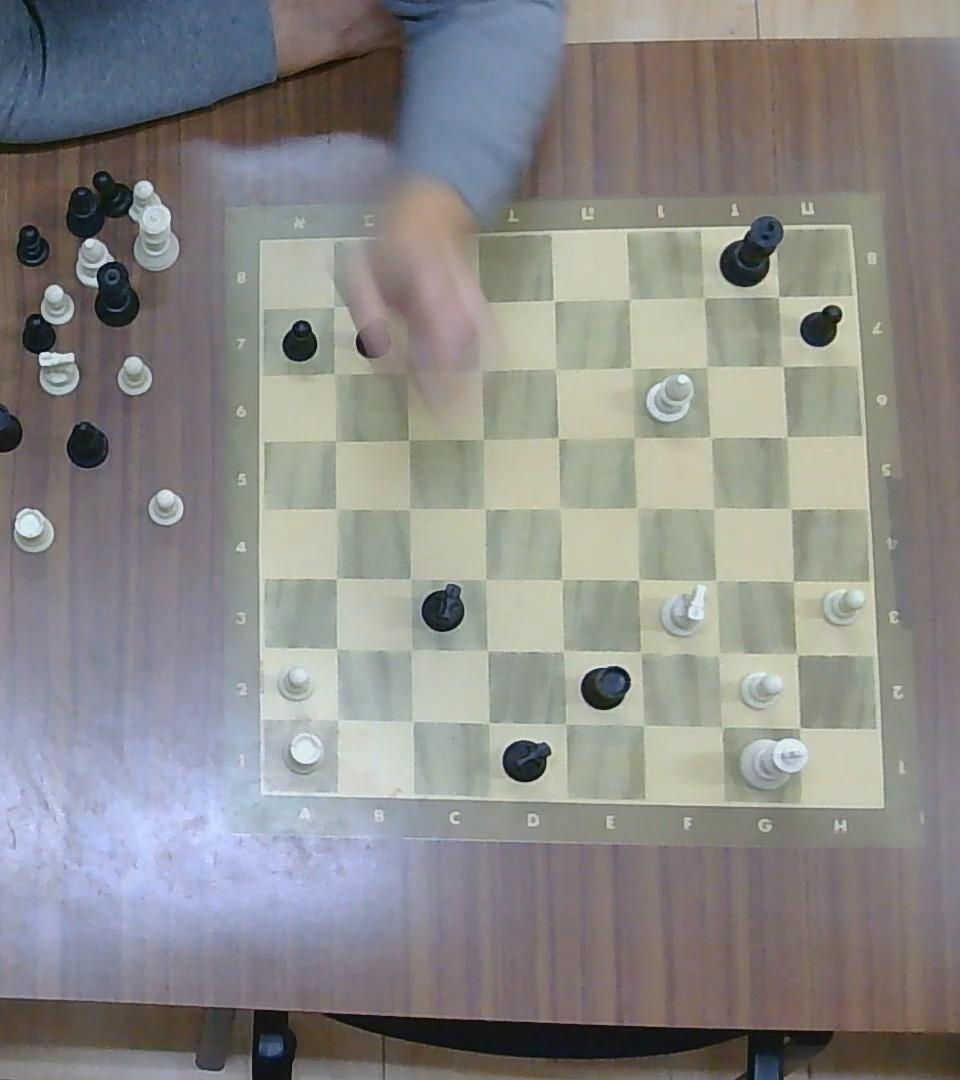xcorner: (701, 638, 735, 670), (705, 709, 736, 741), (783, 711, 814, 743), (320, 703, 352, 734), (393, 289, 424, 321), (472, 706, 503, 737), (781, 637, 812, 668), (626, 708, 657, 739), (625, 636, 656, 666), (549, 707, 580, 737), (396, 705, 427, 735), (464, 286, 494, 317), (698, 493, 728, 522), (472, 634, 501, 664), (776, 493, 806, 522), (548, 563, 576, 594), (623, 564, 652, 593), (622, 493, 651, 522), (321, 633, 350, 662), (548, 637, 578, 665), (615, 284, 645, 312), (547, 493, 575, 522), (471, 493, 499, 522), (701, 566, 730, 594), (777, 566, 806, 594), (396, 635, 424, 664), (321, 564, 350, 592), (540, 284, 568, 313), (617, 352, 646, 380), (545, 423, 573, 450), (323, 494, 351, 521), (470, 424, 497, 452), (467, 354, 495, 381), (621, 423, 648, 450), (692, 283, 719, 310), (543, 354, 570, 381), (471, 566, 500, 591), (396, 565, 423, 591), (693, 353, 721, 378), (769, 353, 797, 378), (323, 427, 349, 453), (699, 422, 725, 448), (773, 422, 799, 448), (322, 292, 348, 318), (396, 495, 422, 520), (397, 426, 422, 451), (395, 358, 420, 383), (768, 285, 791, 308), (324, 361, 348, 383)
